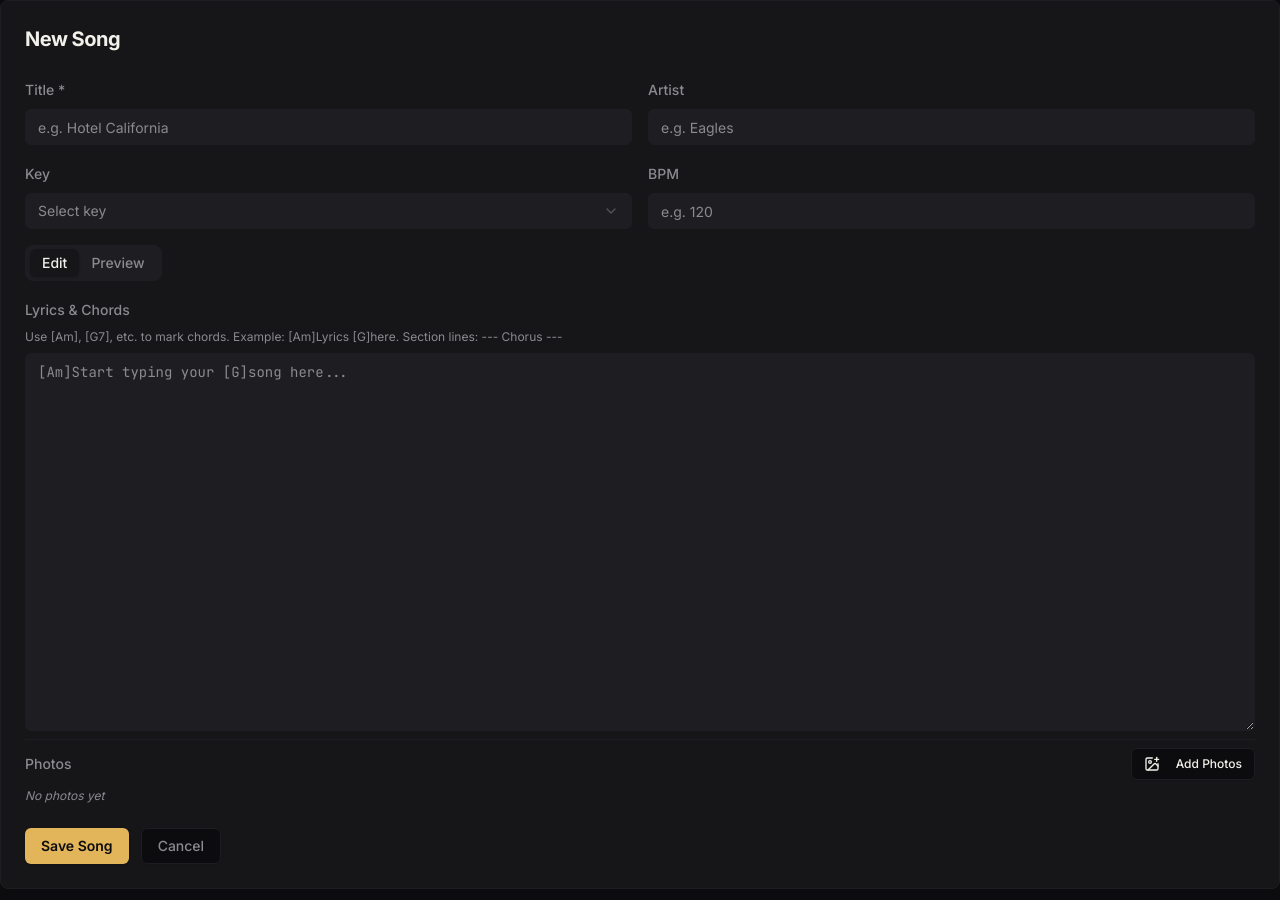
Test: SongEditor › shows error when neither lyrics nor photos provided
The width and height of the screenshot is (1280, 900).
Type "No Content Song" into the field labelled "Title *" at (328, 127), box [25,109,632,145]
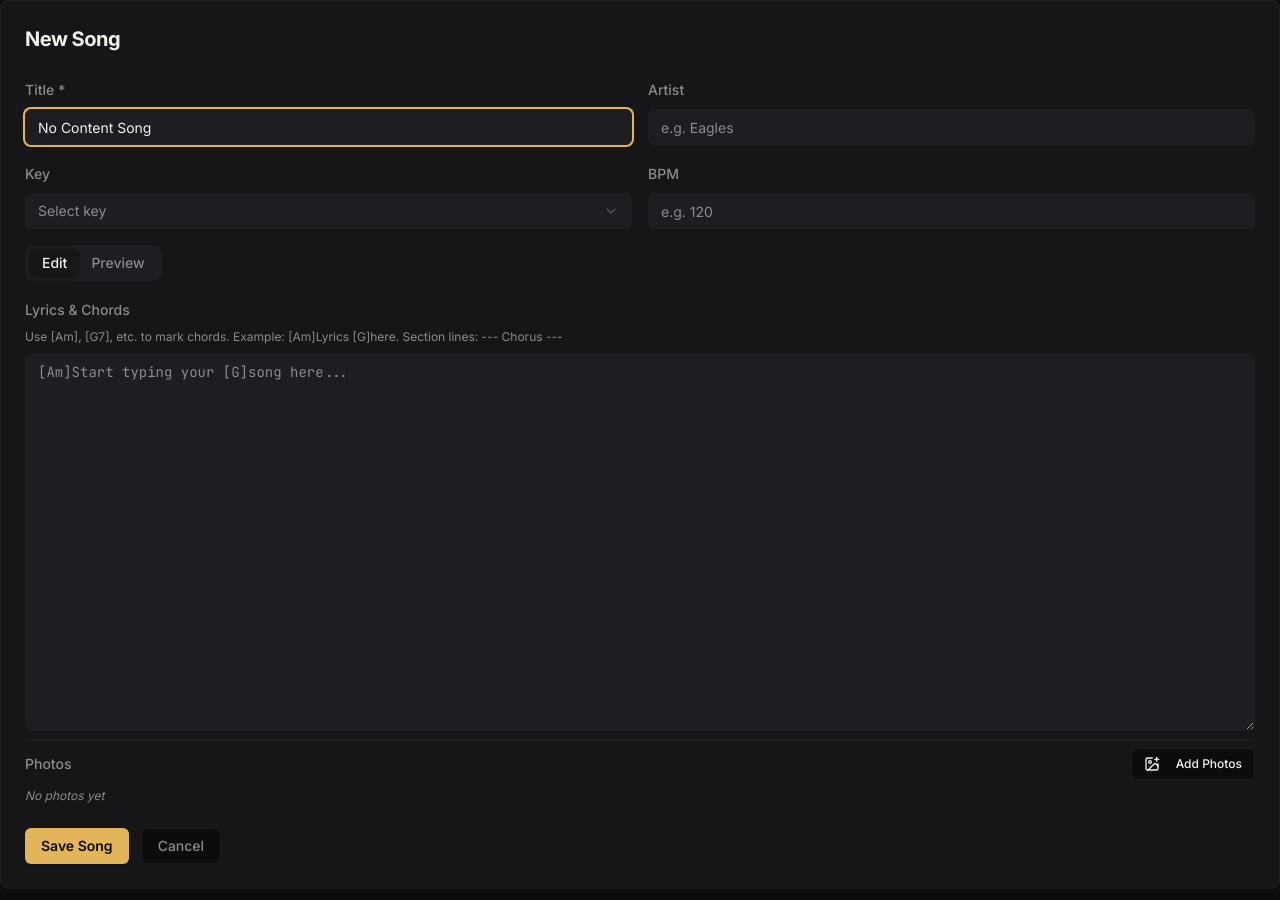
Click the button "Save Song" at (77, 846), box [25,828,129,864]
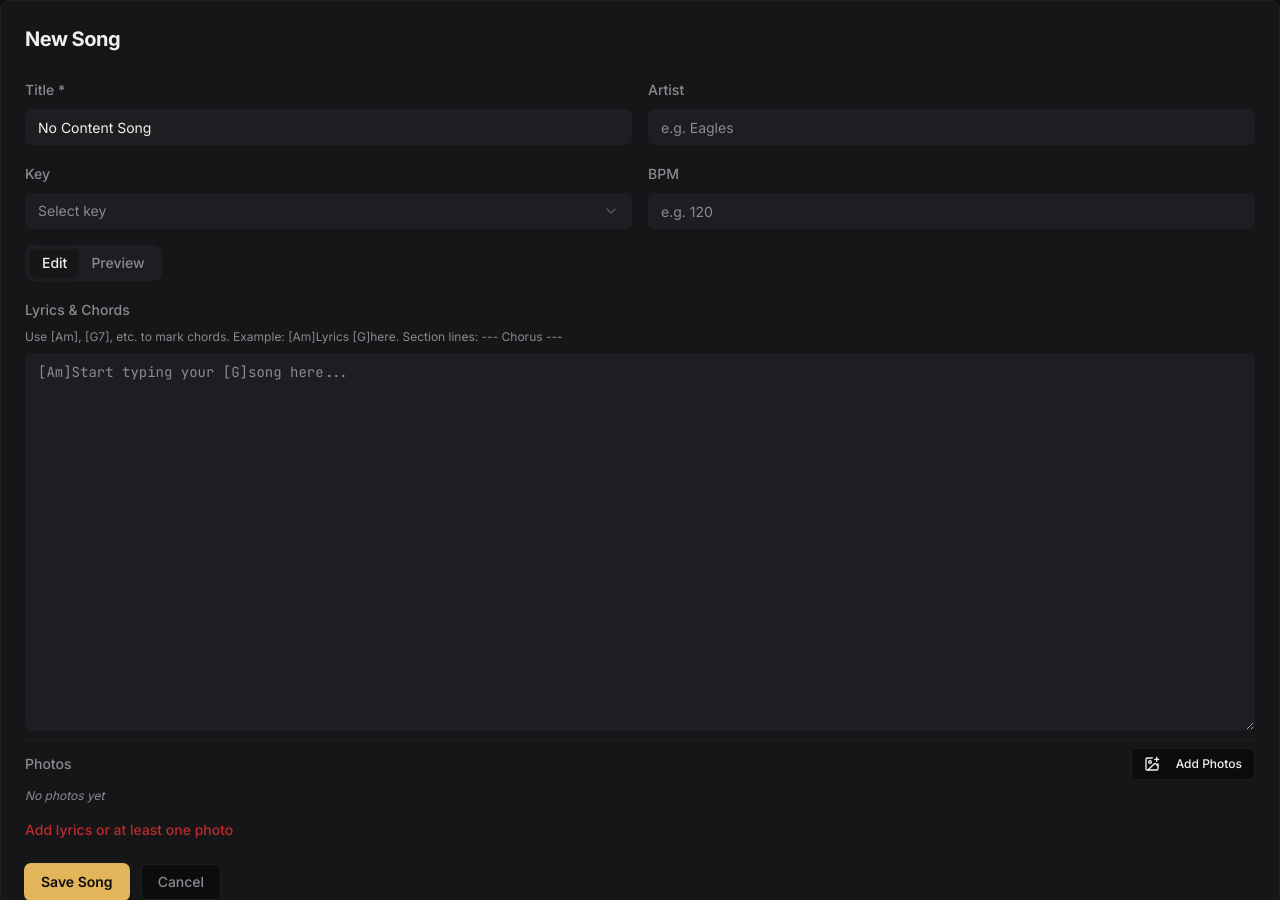
Result: the text "Add lyrics or at least one photo" is shown at [25,821,233,838]
